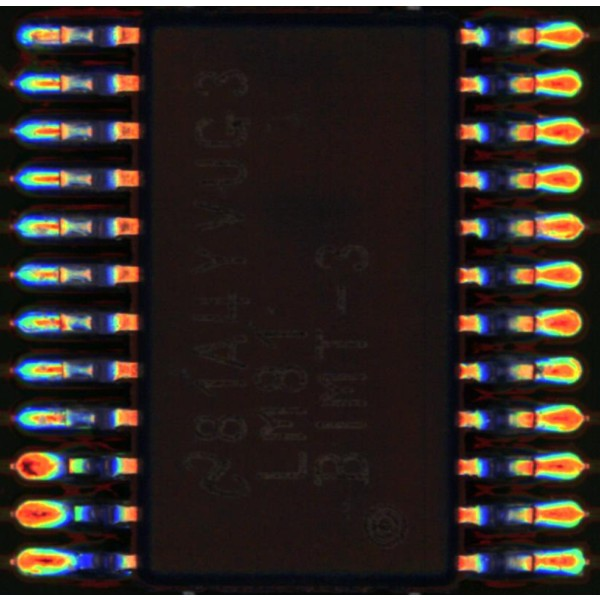Bad_podu: (526, 507, 557, 523), (522, 77, 557, 91), (524, 125, 558, 138), (526, 556, 553, 571), (525, 221, 557, 233), (529, 268, 557, 281), (531, 316, 559, 328), (36, 365, 69, 375), (526, 30, 552, 42), (37, 269, 65, 280), (42, 414, 70, 425), (35, 319, 68, 328), (528, 414, 555, 425), (526, 175, 555, 185), (41, 126, 69, 136), (39, 223, 67, 233), (45, 32, 71, 42), (529, 460, 549, 473), (41, 174, 66, 183), (44, 80, 71, 88)
